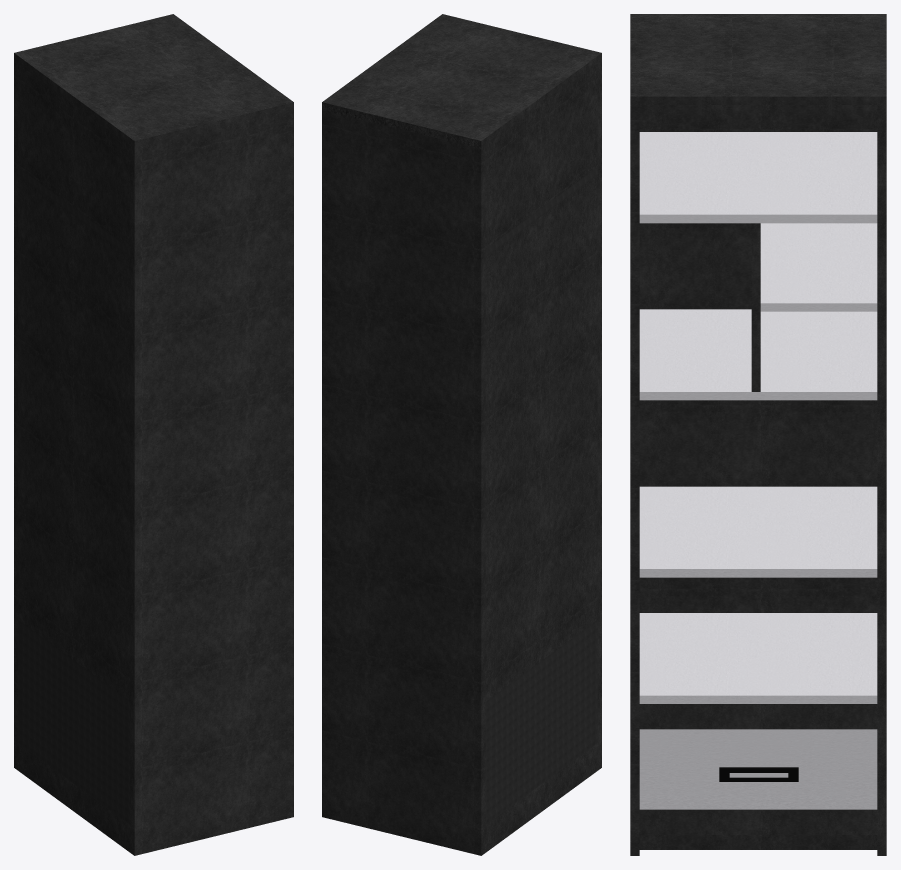
File: bookcase.glb
3 renders of one model, left to right at view 1: azimuth 30°, elevation 25°; view 2: azimuth 150°, elevation 25°; view 3: azimuth 270°, elevation 25°, orthographic. The views are drawn at different scales.
Visible parts, largest first — view 1: Object_7, Object_4; view 2: Object_7, Object_4, Object_3; view 3: Object_5, Object_7, Object_2.
Boxes of the visible parts, x1,y1,x2,y2 form: Object_7: [14, 14, 293, 855]; Object_4: [18, 167, 130, 824]; Object_7: [322, 14, 601, 855]; Object_4: [485, 167, 597, 824]; Object_3: [322, 102, 481, 148]; Object_5: [639, 132, 877, 809]; Object_7: [630, 14, 886, 855]; Object_2: [719, 767, 798, 781].
Bounding box in the file's own units: 0.43 × 1.8 × 0.55.
6 materials, 5 textured.
